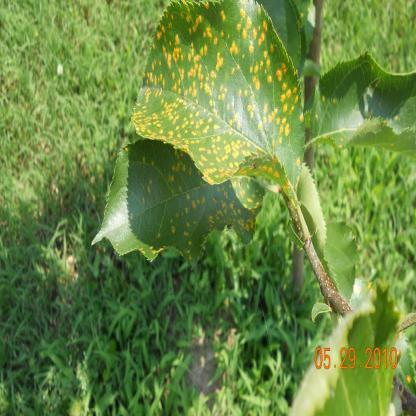Apple rust leaf: (124, 1, 310, 243), (92, 114, 272, 310)
